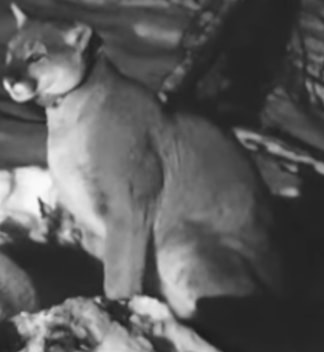Mountain Lion: (3, 2, 300, 318)
